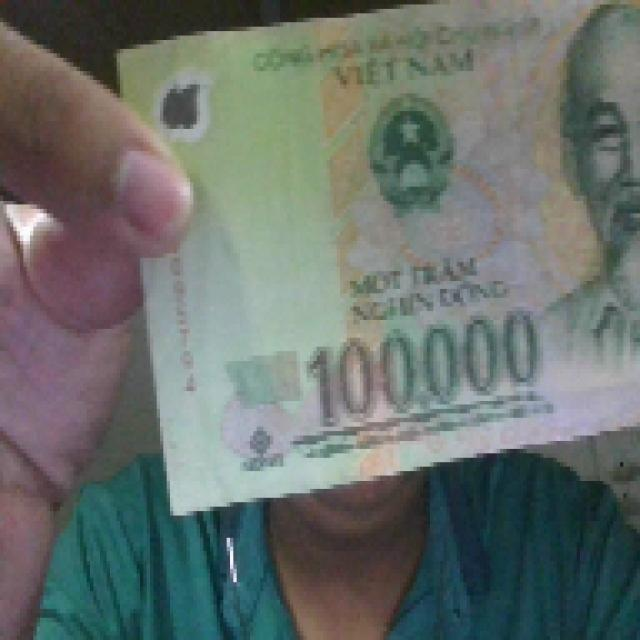100 000 VND: (109, 0, 635, 516)
